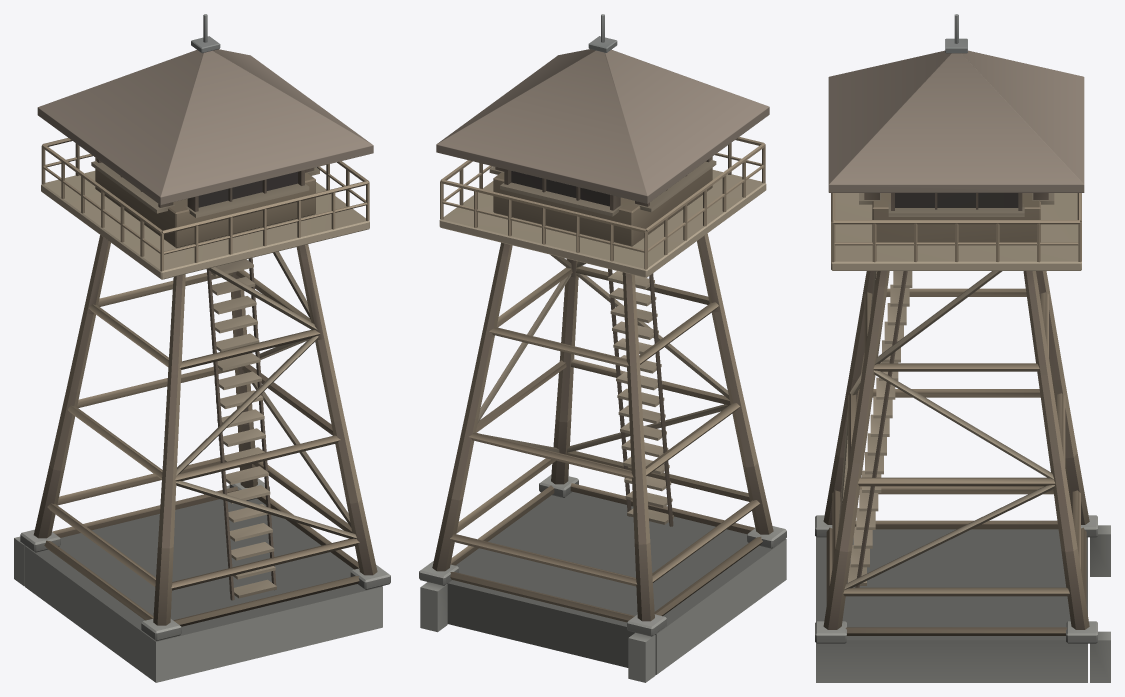
Rendered from lookout.glb.
The picture shows the model from 3 angles, left to right: view 1: azimuth 30°, elevation 25°; view 2: azimuth 150°, elevation 25°; view 3: azimuth 270°, elevation 25°; orthographic projection. The views are drawn at different scales.
Bounding box in the file's own units: 6.2 × 14.81 × 6.48.
